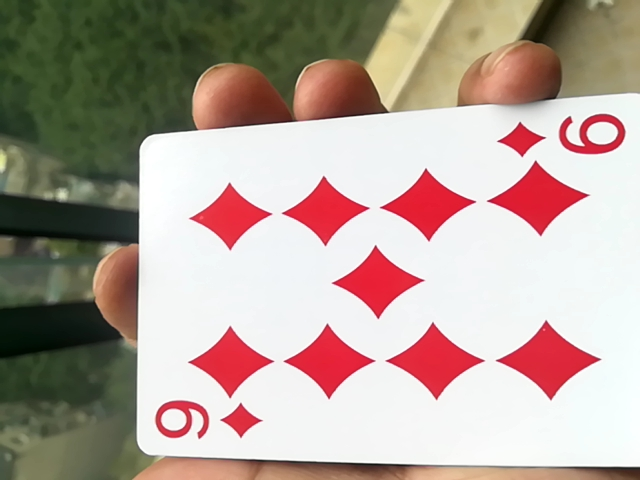fk 9: (123, 105, 639, 477)
